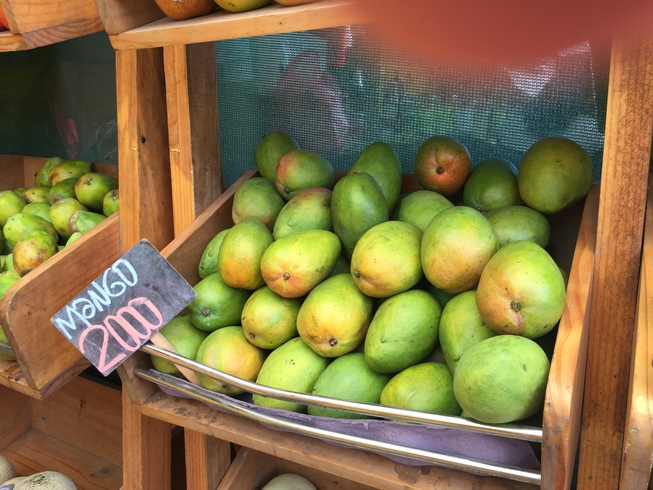precio: (52, 243, 196, 377)
